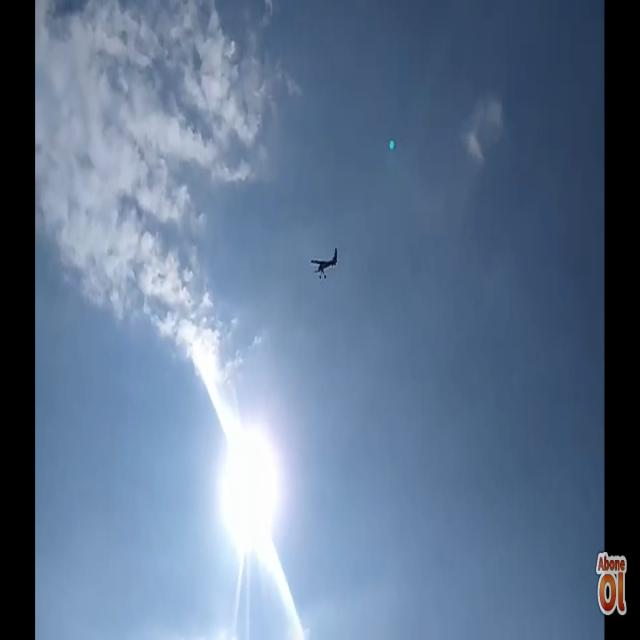iha: (311, 238, 338, 275)
